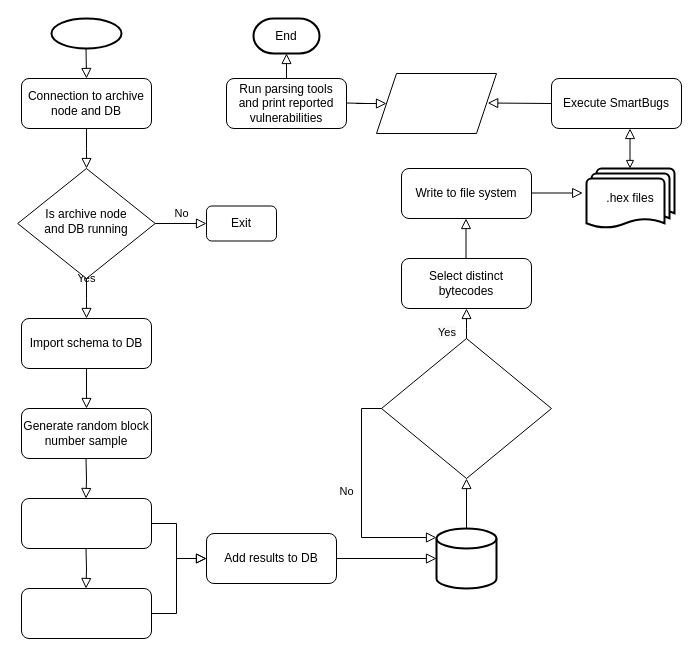
Some shapes in this 699 by 656 pixel diagram are drawn without their labels. The shapes that lost their labels are listed below. From the top down, each one's centre as x and y in pixels, then its label:
pixel 86 33: Start
pixel 436 103: Results
pixel 466 408: balance > 0 OR nr_transactions > 0 OR nr_token_transfer > 0
pixel 86 523: Crawl blocks
pixel 466 558: Analysis DB
pixel 86 613: Crawl blockchain explorers
